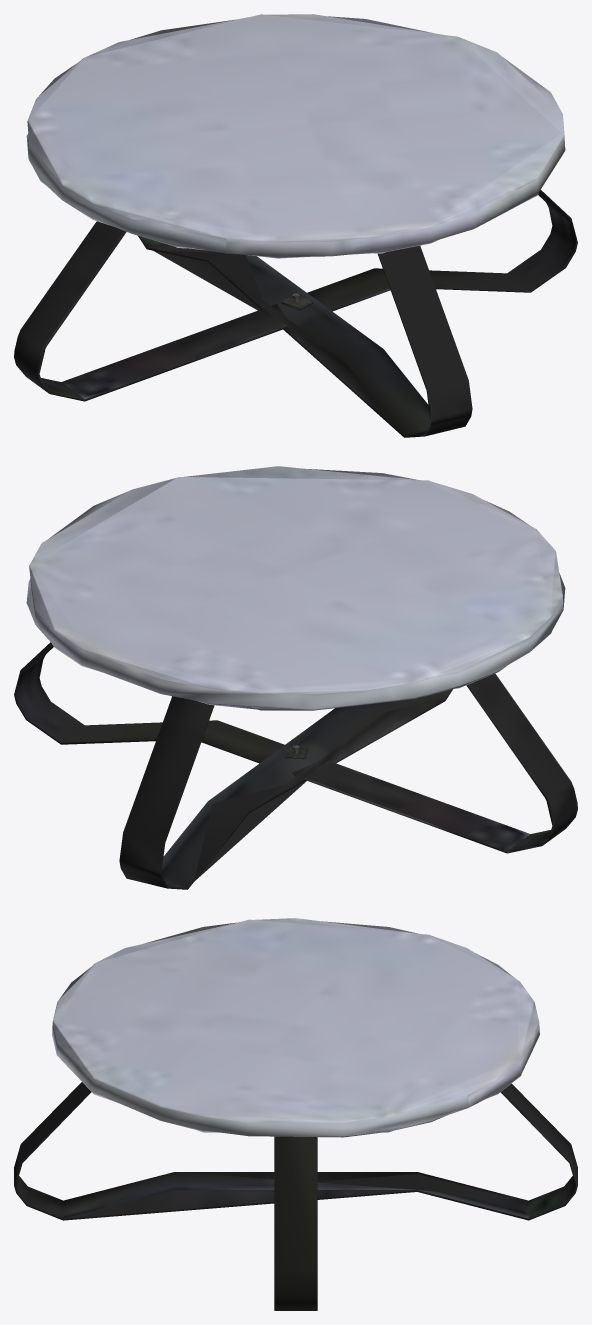
3 renders of one model, top to bottom at view 1: azimuth 30°, elevation 25°; view 2: azimuth 150°, elevation 25°; view 3: azimuth 270°, elevation 25°, orthographic. The views are drawn at different scales.
Parts seen in each view (by area): view 1: coffee_table_round_01; view 2: coffee_table_round_01; view 3: coffee_table_round_01.
Part boxes in pixels (left/top/right/bottom): coffee_table_round_01: left=14, top=14, right=577, bottom=437; coffee_table_round_01: left=14, top=466, right=577, bottom=889; coffee_table_round_01: left=14, top=918, right=577, bottom=1310.
Size of the model in its own units: 1.3 by 0.49 by 1.3.
1 material, 1 textured.
